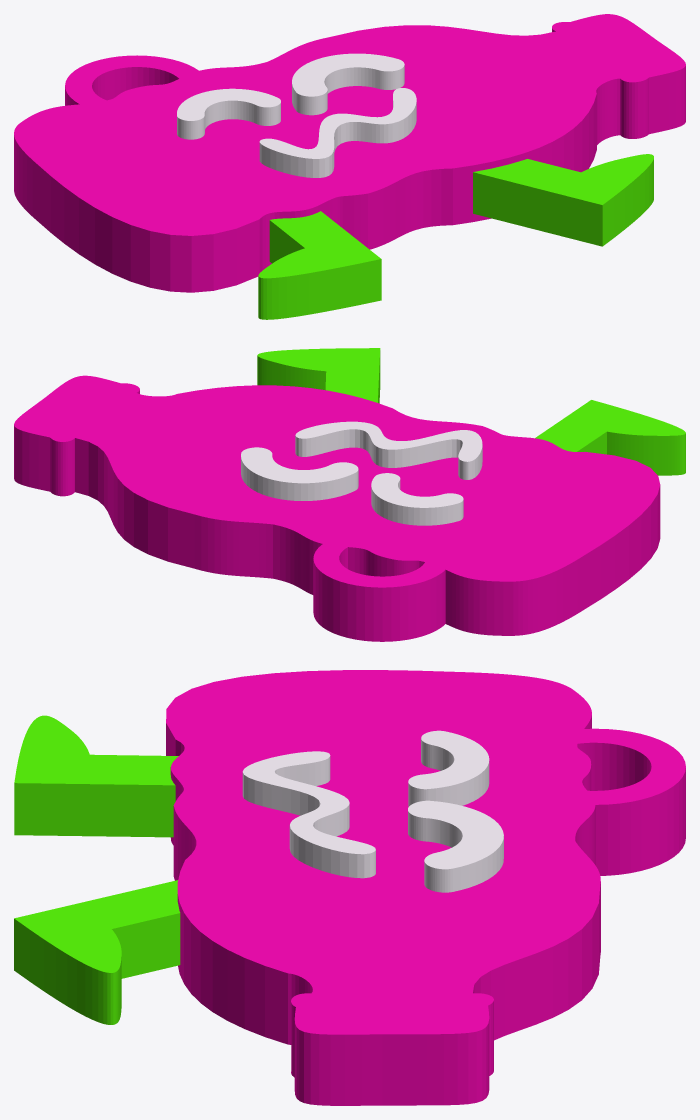
Rendered from keychainchai.glb.
The picture shows the model from 3 angles, top to bottom: view 1: azimuth 30°, elevation 25°; view 2: azimuth 150°, elevation 25°; view 3: azimuth 270°, elevation 25°; orthographic projection. The views are drawn at different scales.
Parts seen in each view (by area): view 1: Curve.162, Curve.115, Curve.116, Curve.166, Curve.153, Curve.136; view 2: Curve.162, Curve.116, Curve.166, Curve.115, Curve.153, Curve.136; view 3: Curve.162, Curve.115, Curve.116, Curve.166, Curve.153, Curve.136.
Boxes of the visible parts, x1,y1,x2,y2 form: Curve.162: (14,14,685,292); Curve.115: (473,154,653,246); Curve.116: (258,211,381,319); Curve.166: (259,88,416,177); Curve.153: (292,53,404,115); Curve.136: (177,88,280,139); Curve.162: (14,375,660,641); Curve.116: (535,400,685,475); Curve.166: (295,421,482,479); Curve.115: (257,348,380,403); Curve.153: (241,447,358,500); Curve.136: (371,473,463,525); Curve.162: (166,670,685,1105); Curve.115: (14,880,180,1024); Curve.116: (14,715,178,837); Curve.166: (242,751,375,878); Curve.153: (408,800,503,892); Curve.136: (408,730,489,806).
Size of the model in its own units: 0.0533 by 0.00648 by 0.0415.
